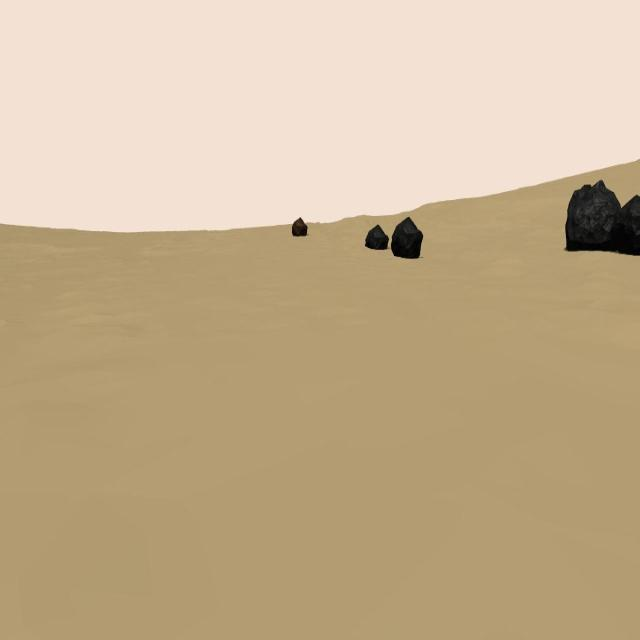rock: (564, 180, 621, 251), (391, 215, 424, 260), (617, 193, 640, 256), (365, 223, 389, 251), (292, 215, 308, 238)
